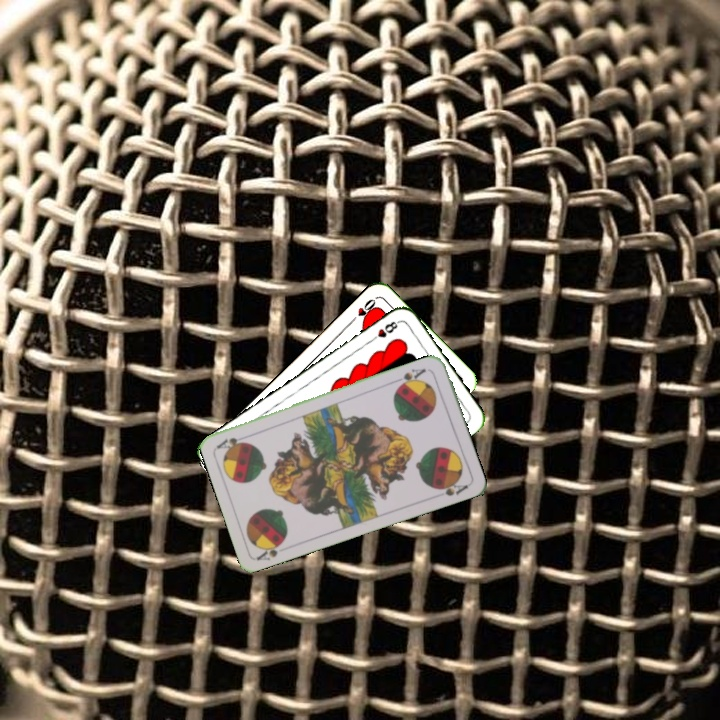H8: (366, 316, 402, 345)
HO: (346, 295, 378, 326)
SA: (253, 536, 288, 563), (392, 364, 428, 390)
